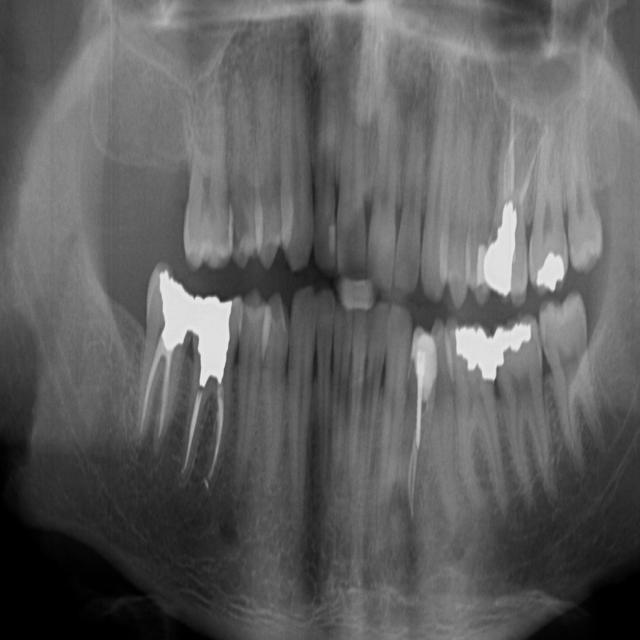dolgu: (189, 281, 238, 388), (443, 308, 498, 392), (486, 205, 531, 302), (152, 256, 197, 352), (404, 315, 442, 396), (524, 237, 574, 297), (499, 314, 545, 376)
kanal-tedavisi: (173, 374, 236, 486), (486, 112, 544, 218), (129, 340, 177, 462), (404, 382, 430, 509)
